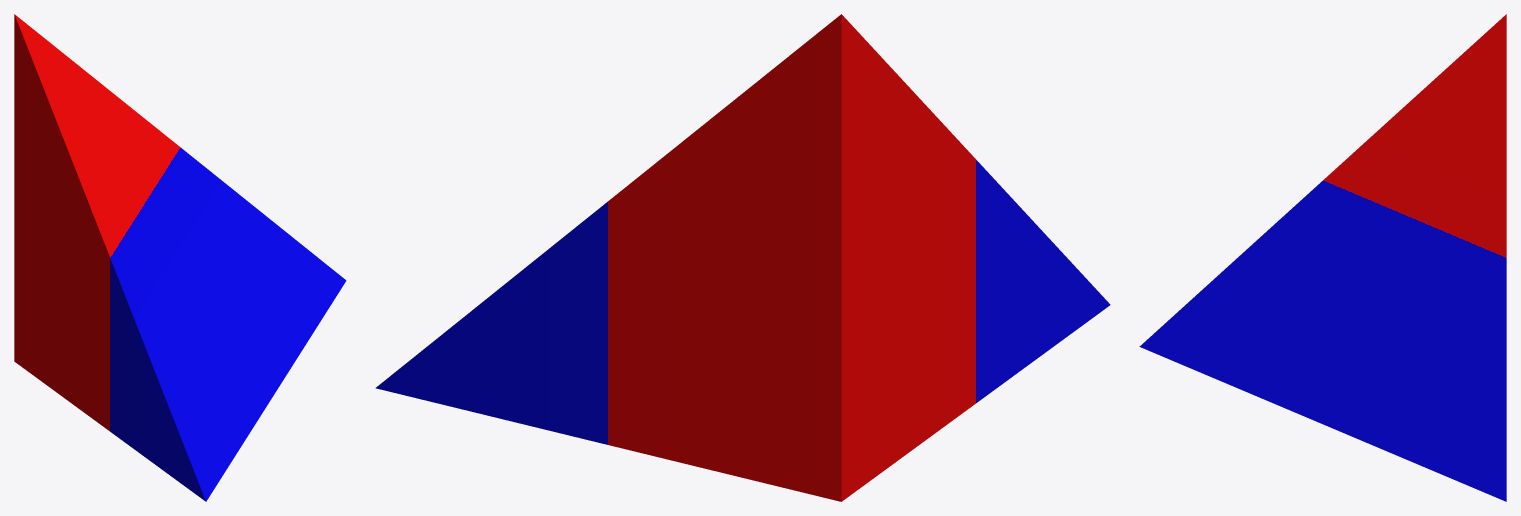
File: two_color_png.glb
3 renders of one model, left to right at view 1: azimuth 30°, elevation 25°; view 2: azimuth 150°, elevation 25°; view 3: azimuth 270°, elevation 25°, orthographic. The views are drawn at different scales.
Size of the model in its own units: 20 by 20 by 20.
Materials: 1 (1 with a texture image).
